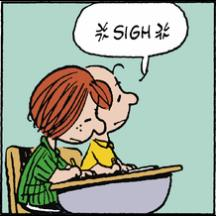charlie: (72, 62, 140, 174)
